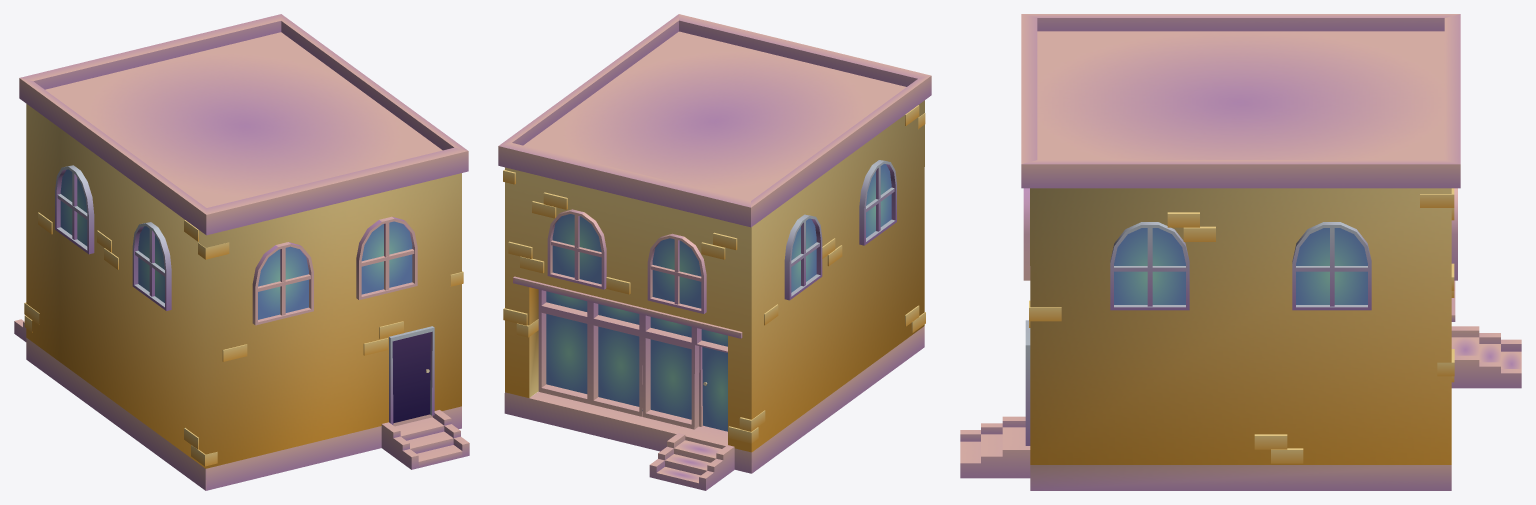
3 views of the same model, side by side, from view 1: azimuth 30°, elevation 25°; view 2: azimuth 150°, elevation 25°; view 3: azimuth 270°, elevation 25° (orthographic). The views are drawn at different scales.
Parts seen in each view (by area): view 1: SM_2F_02; view 2: SM_2F_02; view 3: SM_2F_02.
Boxes of the visible parts, x1,y1,x2,y2 form: SM_2F_02: (14, 14, 469, 490); SM_2F_02: (498, 14, 931, 490); SM_2F_02: (960, 14, 1521, 490).
Size of the model in its own units: 7.78 by 12.09 by 7.81.
